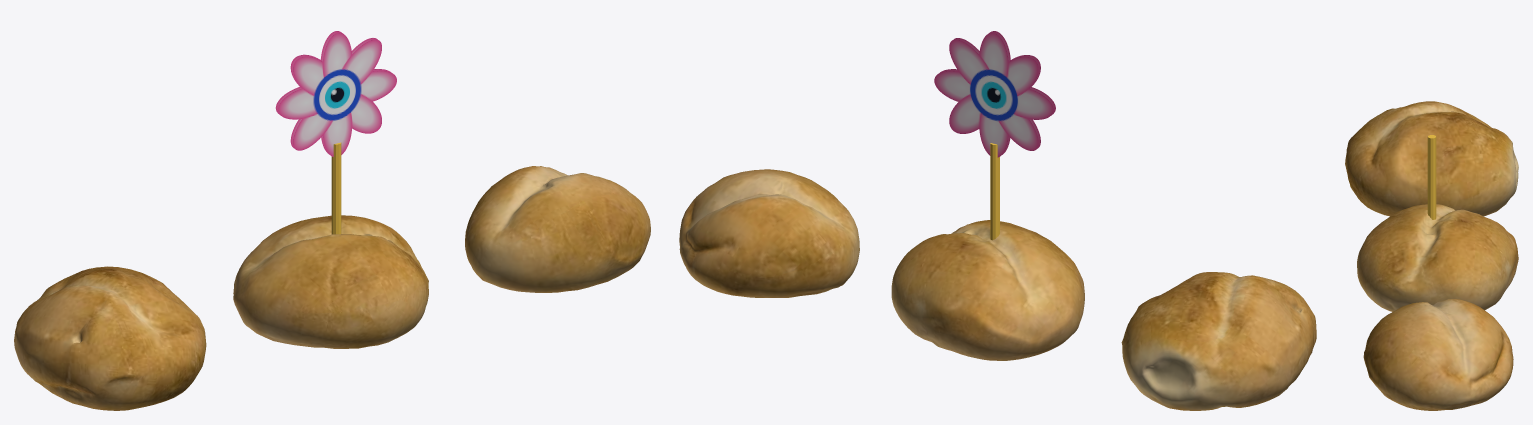
The model's file is nyb_mcmlow_bigcount.glb.
3 views of the same model, side by side, from view 1: azimuth 30°, elevation 25°; view 2: azimuth 150°, elevation 25°; view 3: azimuth 270°, elevation 25° (orthographic). The views are drawn at different scales.
Parts seen in each view (by area): view 1: hamburger_buns_01, add_eyeflower.png, Cylinder; view 2: hamburger_buns_01, add_eyeflower.png, Cylinder; view 3: hamburger_buns_01, Cylinder.
Part boxes in pixels (box(x1,y1,x2,y2)): hamburger_buns_01: box(14, 166, 650, 410); add_eyeflower.png: box(275, 31, 396, 156); Cylinder: box(331, 142, 341, 234); hamburger_buns_01: box(679, 169, 1316, 410); add_eyeflower.png: box(934, 31, 1055, 157); Cylinder: box(990, 143, 999, 240); hamburger_buns_01: box(1345, 101, 1518, 410); Cylinder: box(1427, 135, 1436, 219).
Bounding box in the file's own units: 0.3972 × 0.1834 × 0.1138.
3 materials, 2 textured.
